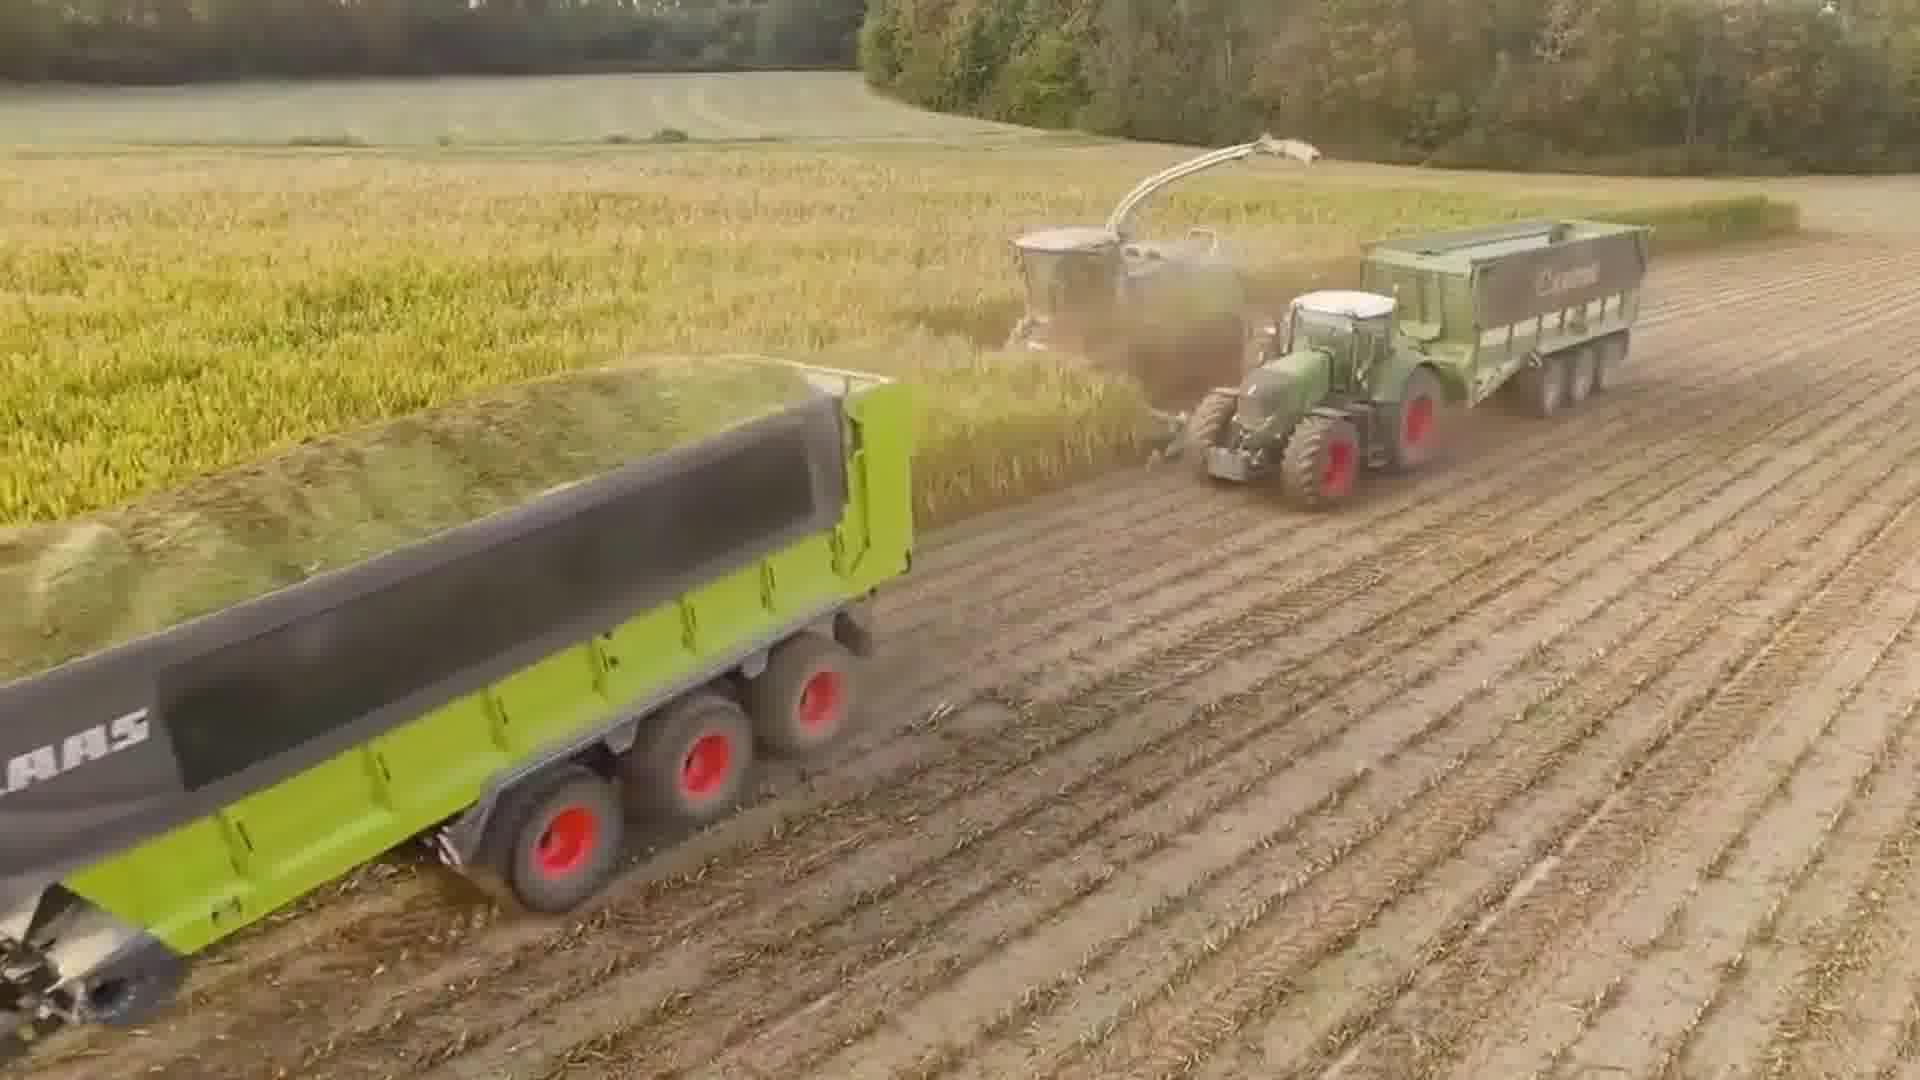combine harvester: (990, 133, 1332, 389)
tractor: (1179, 282, 1453, 514)
trailer: (0, 342, 924, 1067), (1356, 207, 1663, 425)
